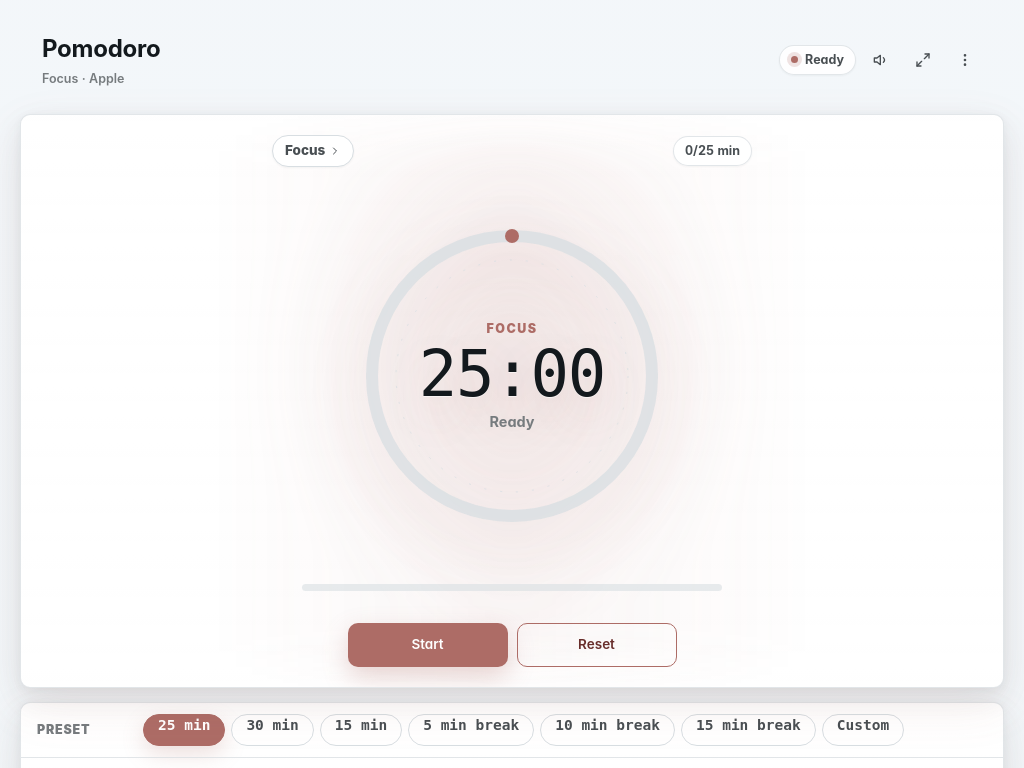
Test case: PomodoroModule › M6: Resume continues from paused state
Click the button with test id "start-btn" at (428, 645), box [348, 623, 508, 667]
Wait 1000 ms
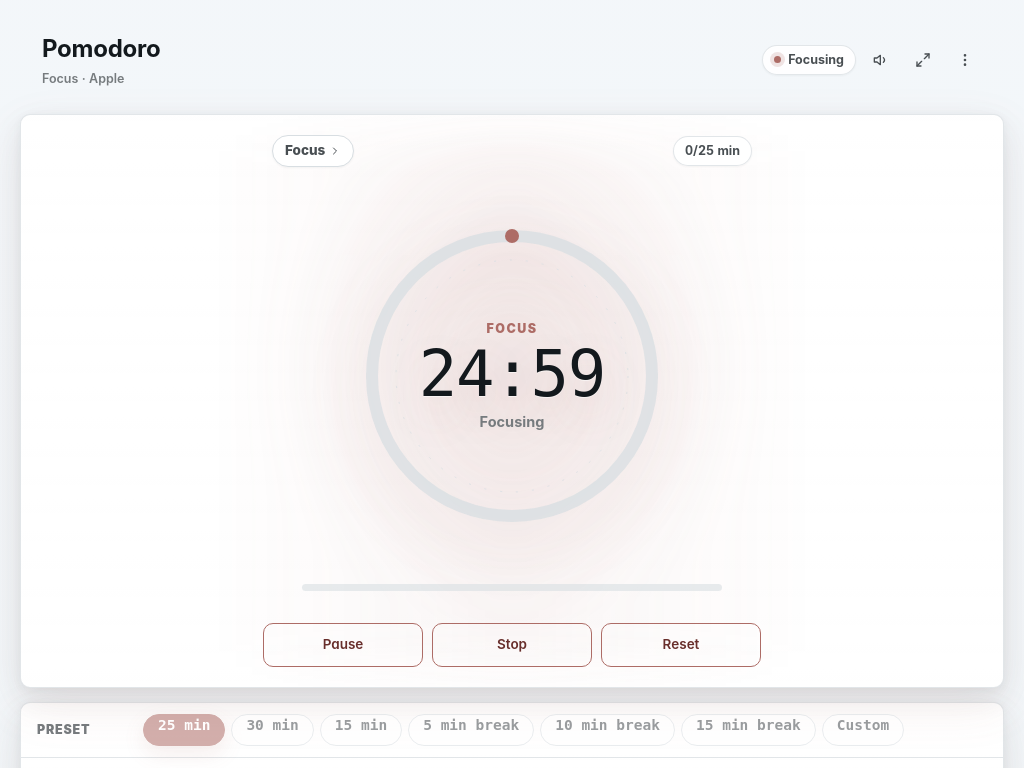
Click the button with test id "pause-btn" at (343, 645), box [263, 623, 423, 667]
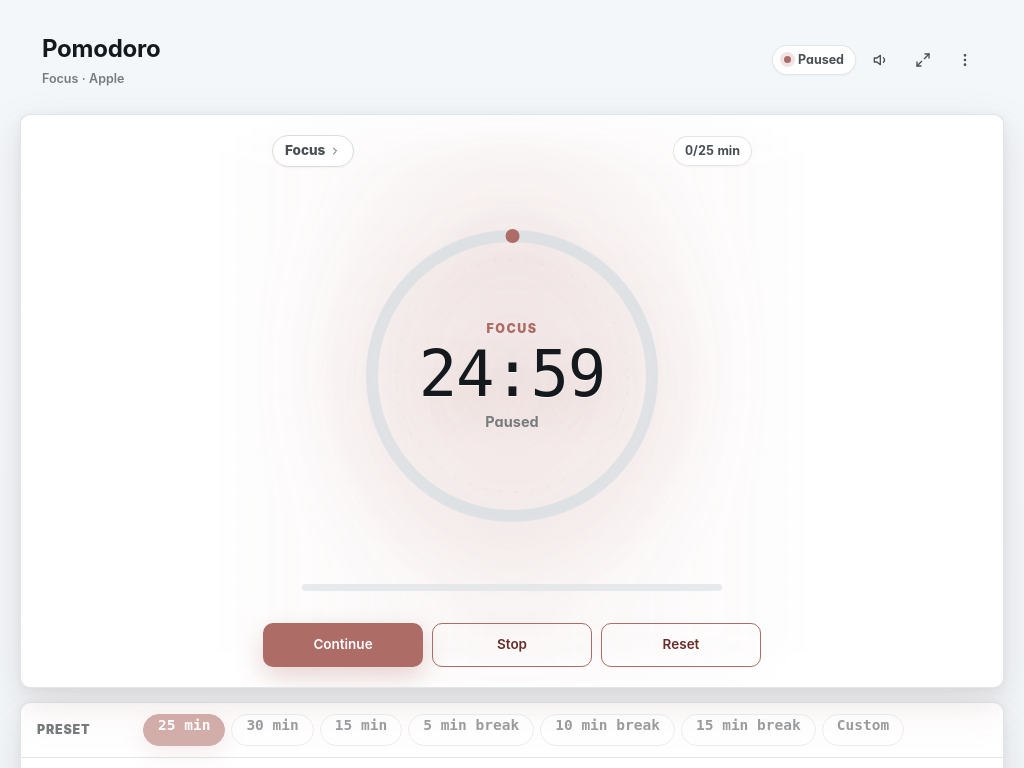
Click the button with test id "continue-btn" at (343, 645), box [263, 623, 423, 667]
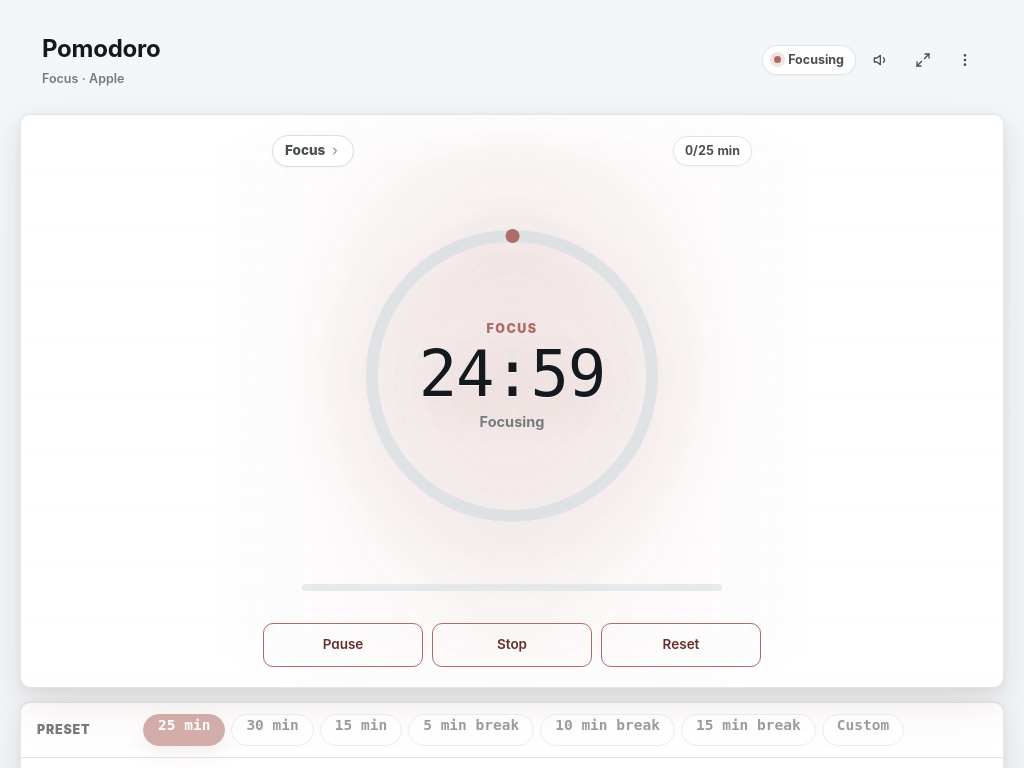
Expected: the text with test id "timer-state" reads "Focusing", [480, 412, 544, 430]
